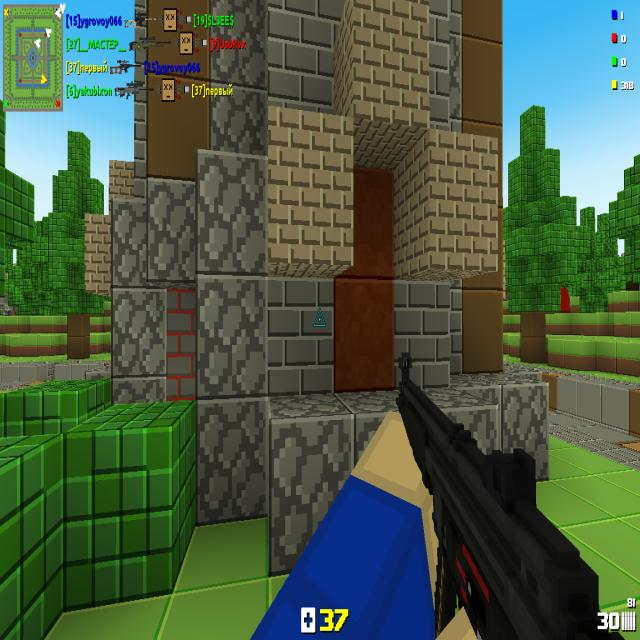enemy: (560, 287, 571, 312)
